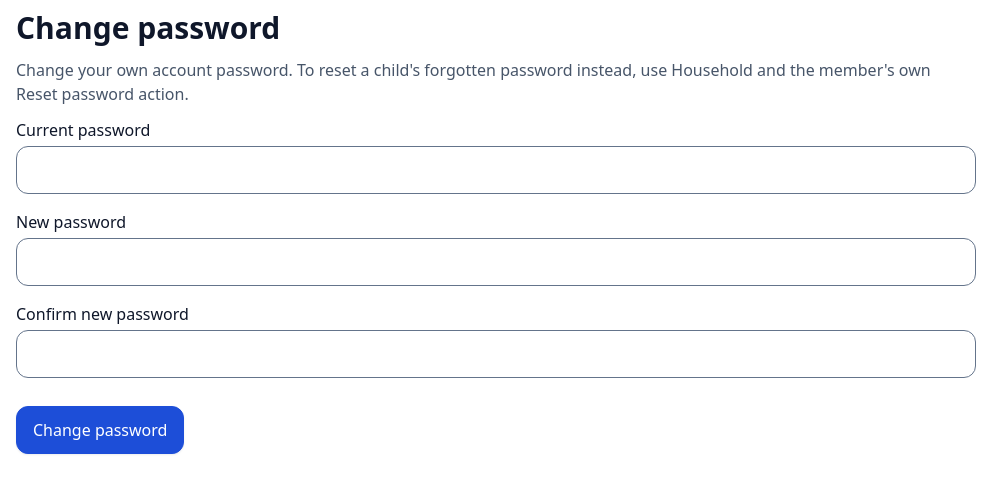
Test: submitting › posts the two fields and shows success, clearing every field
Type "synthetic-only-current-password" into the password field labelled "Current password" at [496, 170], box [16,146,976,194]
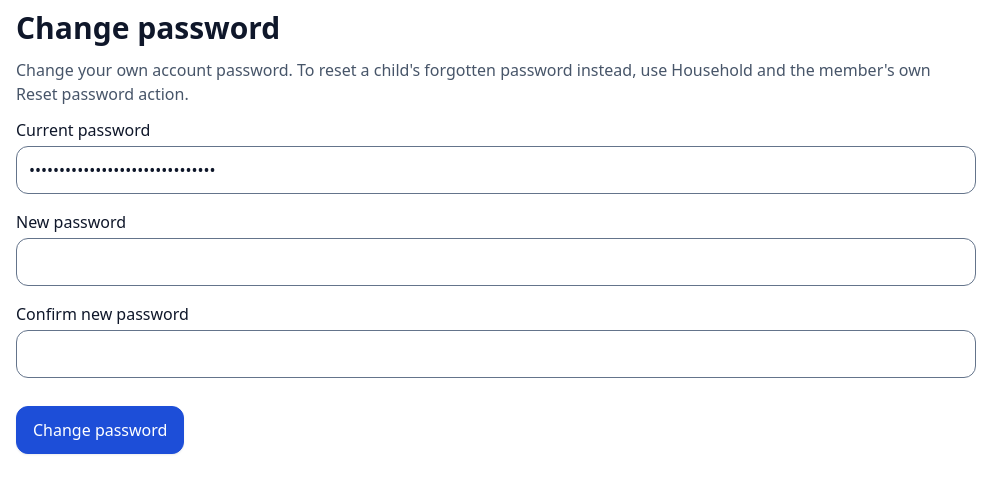
Type "a genuinely unusual passphrase 42" into the password field labelled "New password" at [496, 262], box [16,238,976,286]
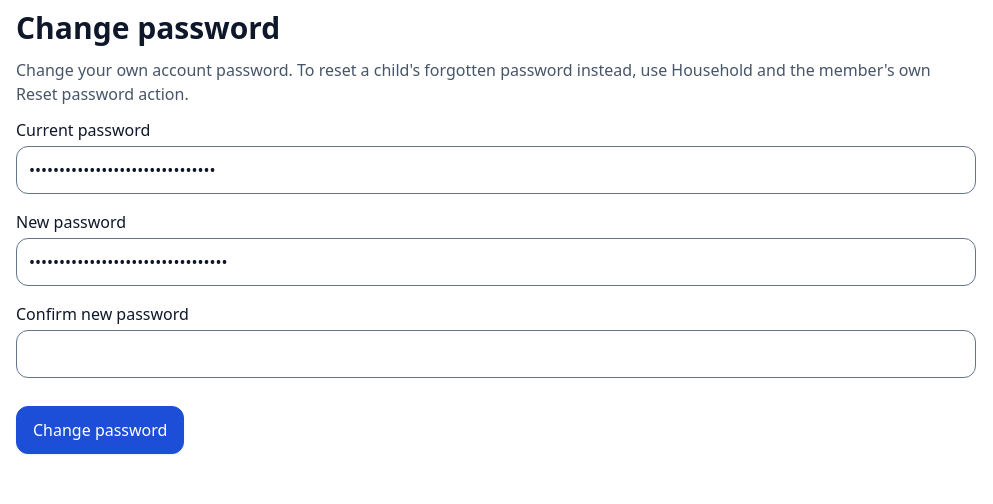
Type "a genuinely unusual passphrase 42" into the password field labelled "Confirm new password" at [496, 354], box [16,330,976,378]
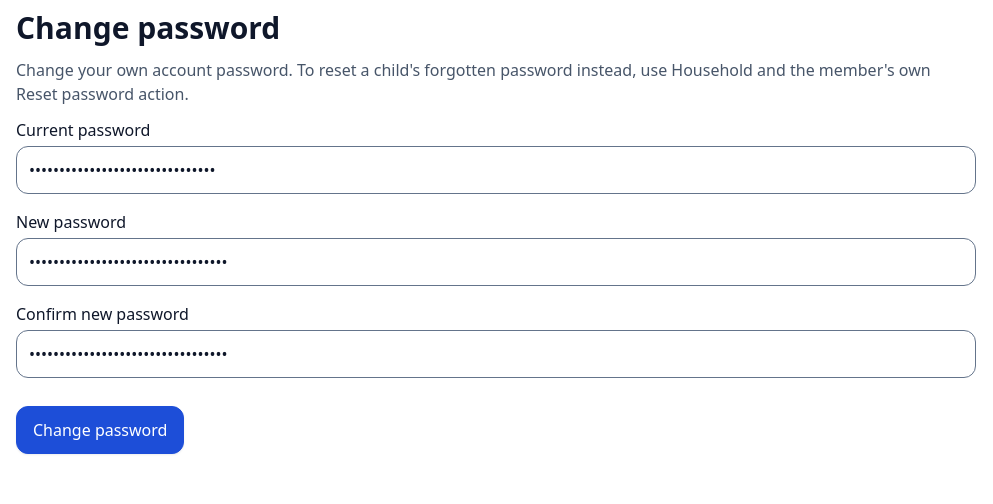
Click the button "Change password" at [100, 430], box [16,406,184,454]
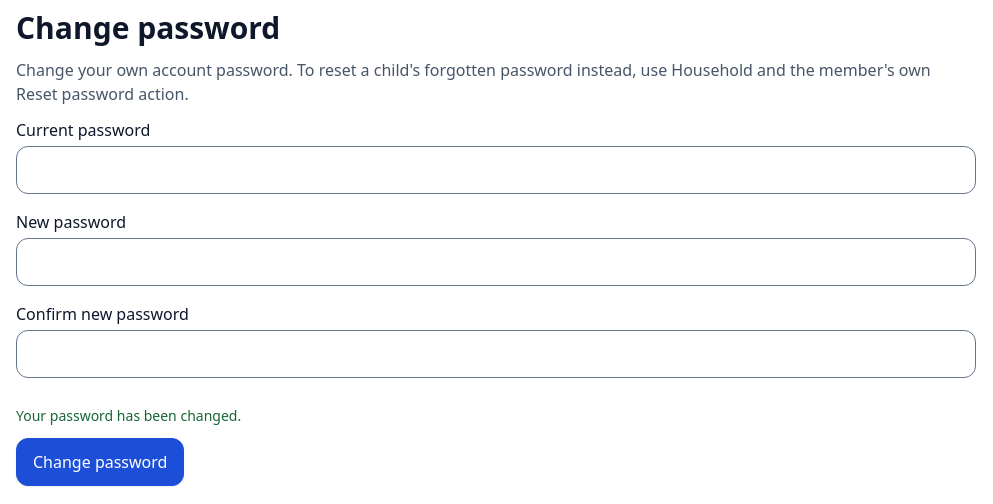
Expected: the message reads "Your password has been changed.", [16,406,241,425]
Expected: the password field labelled "Current password" is empty, [16,146,976,194]
Expected: the password field labelled "New password" is empty, [16,238,976,286]
